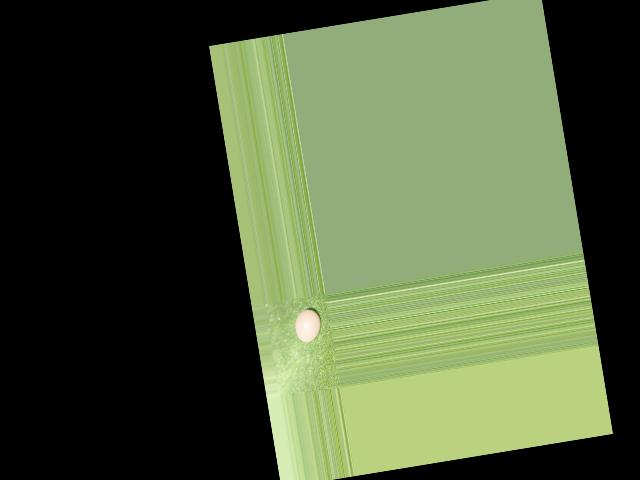egg: (293, 307, 324, 344)
